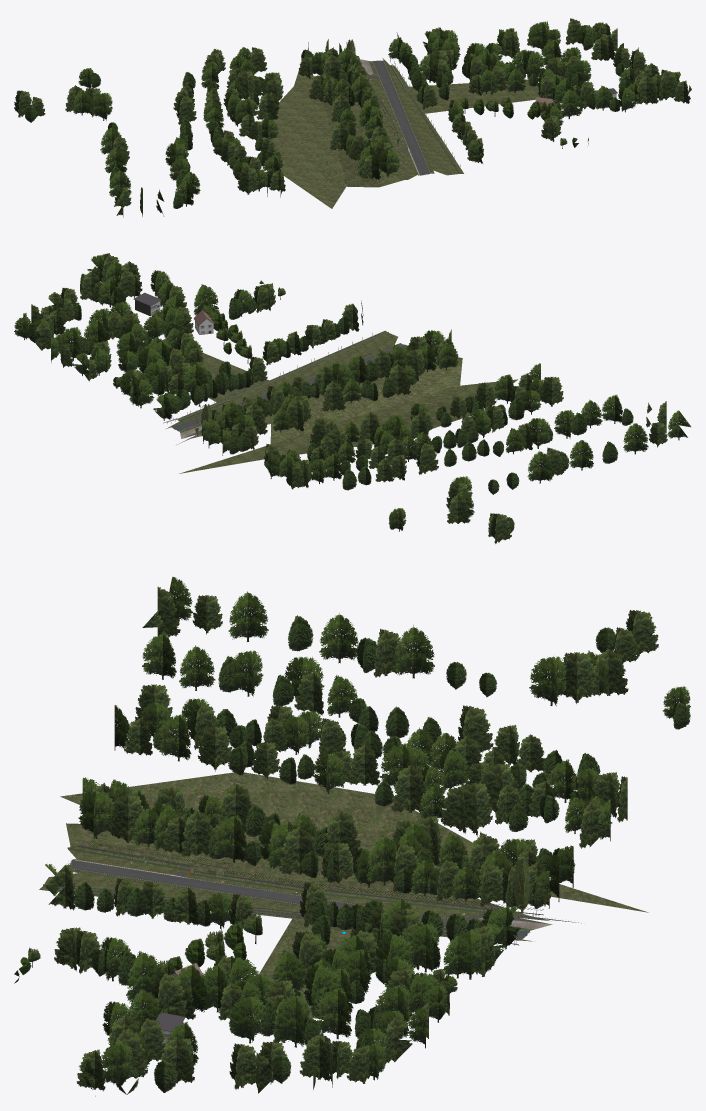
3 views of the same model, one above another, from view 1: azimuth 30°, elevation 25°; view 2: azimuth 150°, elevation 25°; view 3: azimuth 270°, elevation 25° (orthographic). The views are drawn at different scales.
Visible parts, largest first — view 1: tile_t02; view 2: tile_t02; view 3: tile_t02.
Part boxes in pixels (left/top/right/bottom): tile_t02: left=14, top=18, right=691, bottom=217; tile_t02: left=14, top=253, right=690, bottom=543; tile_t02: left=14, top=577, right=690, bottom=1096.
Size of the model in its own units: 587 by 42.4 by 350.
29 materials, 29 textured.
